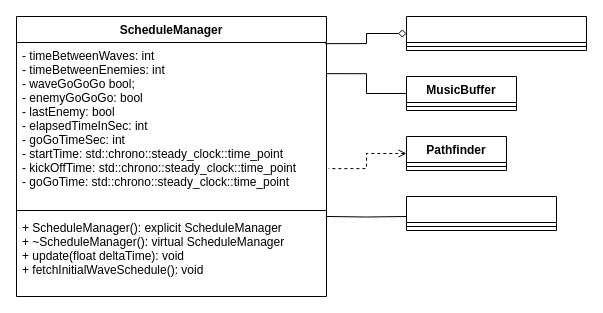
Image size: 603x313. Some labels were removed from this diagram. The shapes that lost their labels are listed below. From the top down, each one's box as (x1, y1, x2, y2) in pixels, then its label:
(406, 16, 586, 50): SceneManager
(406, 196, 556, 230): GameManager
